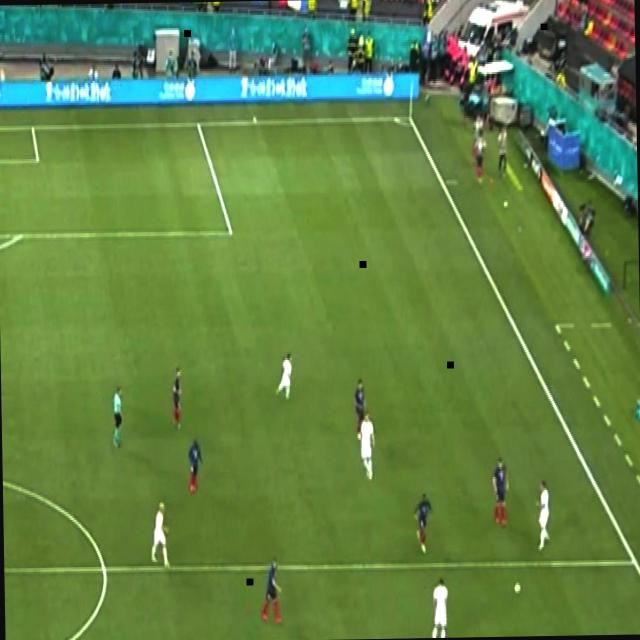ball: (514, 580, 522, 596), (503, 197, 509, 208)
player-white: (260, 556, 284, 627), (356, 409, 379, 482), (149, 498, 171, 574), (491, 452, 512, 530), (412, 490, 436, 556), (428, 572, 451, 638), (534, 480, 554, 552), (274, 350, 296, 404), (186, 431, 204, 496), (110, 383, 126, 451), (353, 374, 367, 440), (171, 360, 183, 430)
